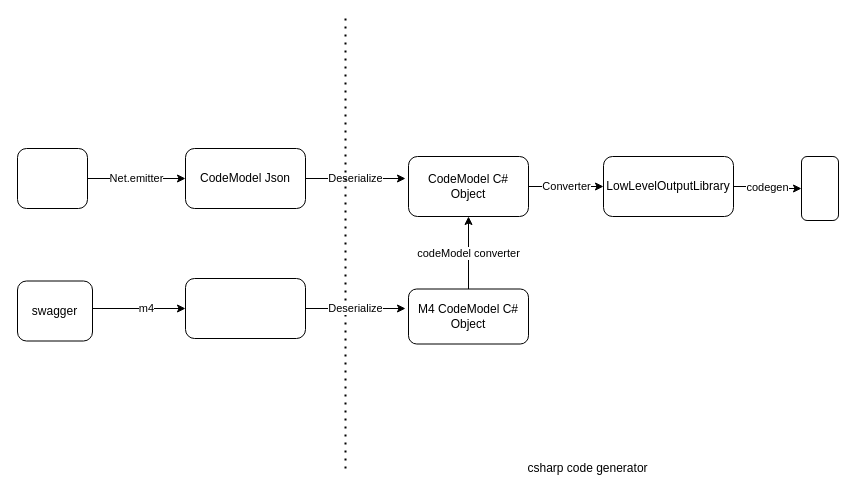
Some shapes in this 856 by 495 pixel diagram are drawn without their labels. Each missing label, with the centre of its shape:
CADL: the point at 52,178
M4 CodeModel yaml: the point at 245,308
SDK: the point at 819,188
